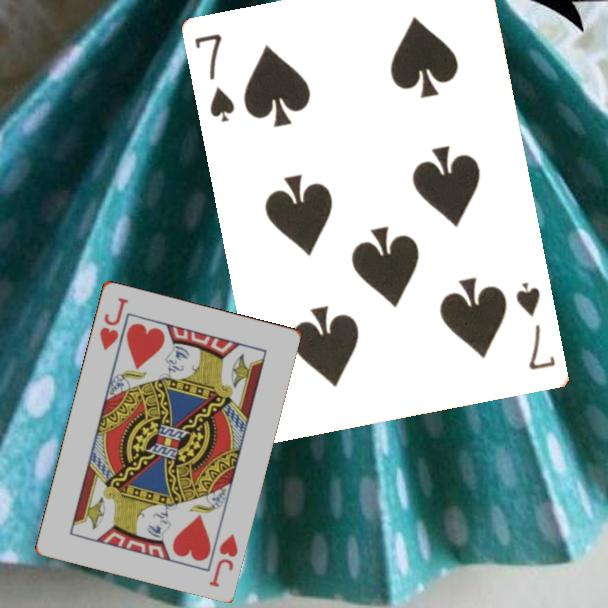h11: (205, 530, 240, 590), (96, 294, 131, 353)
s07: (191, 30, 238, 126), (513, 279, 559, 374)
